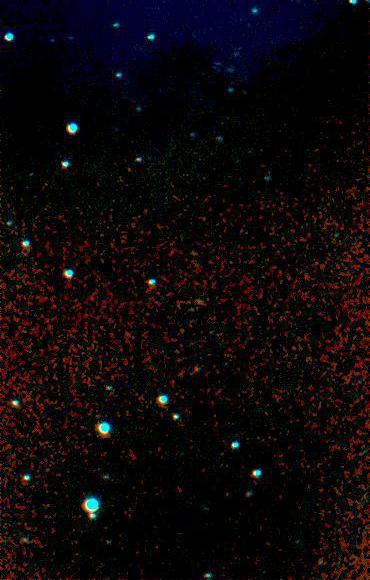star: (182, 18, 212, 48)
